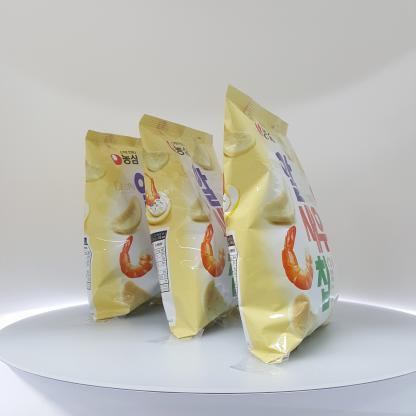Plastic Packaging: (226, 96, 324, 358), (141, 117, 233, 336), (74, 124, 152, 328)
